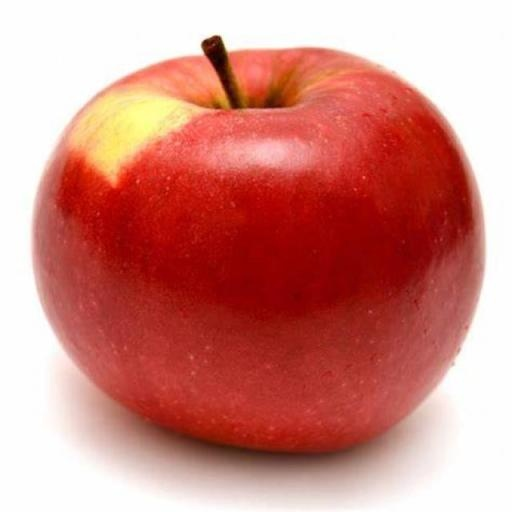fruit: (34, 49, 483, 451)
